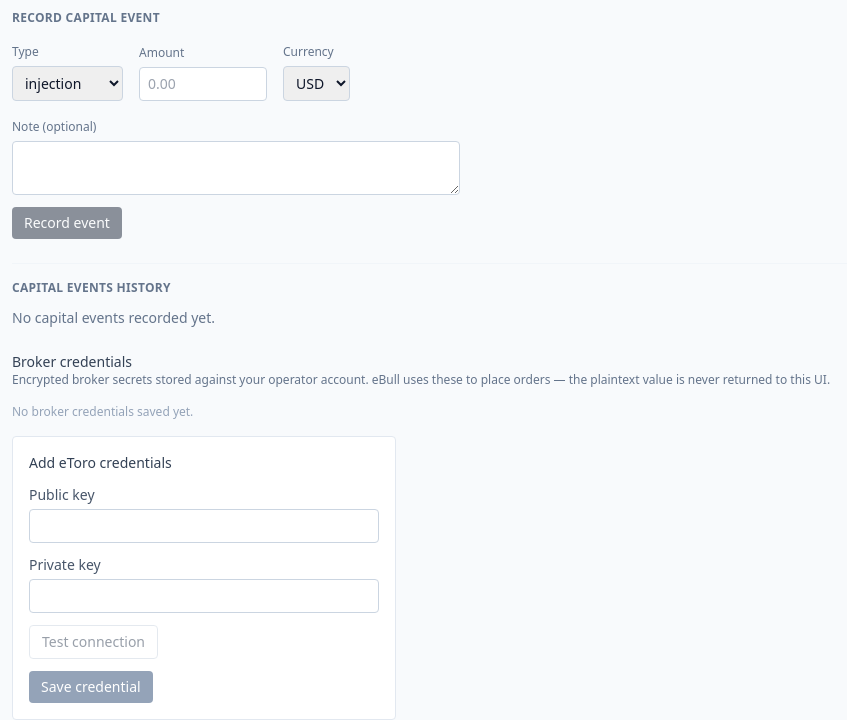
SettingsPage — test connection › shows auth failure without using note as error message
(page scrolled)
Expected: the text "No broker credentials saved yet." is shown, [12, 403, 193, 420]
Type "bad-api-key" into the password field labelled "Public key" at (204,526), box [29, 509, 379, 543]
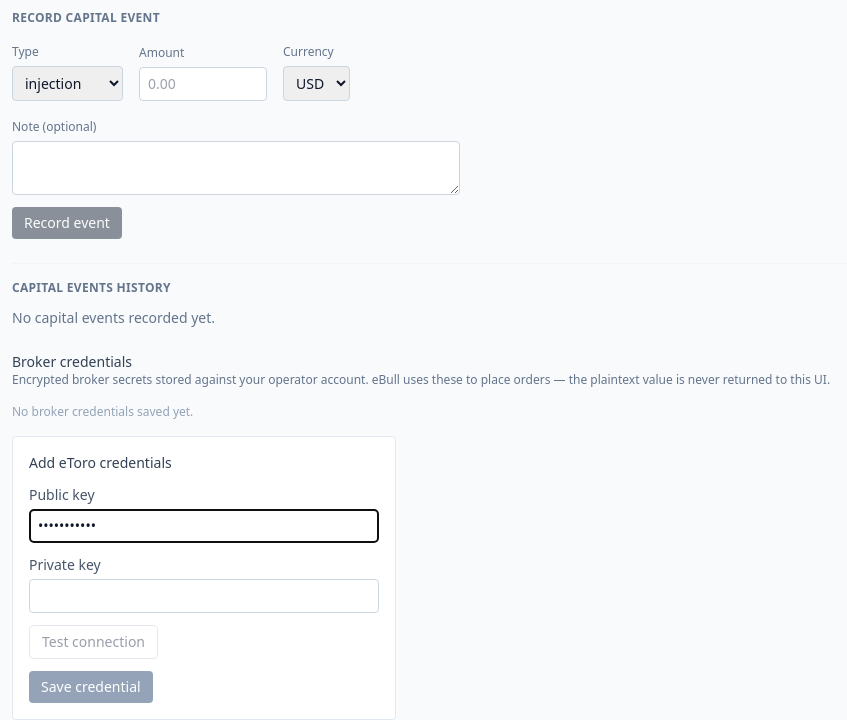
Type "bad-user-key" into the password field labelled "Private key" at (204,596), box [29, 579, 379, 613]
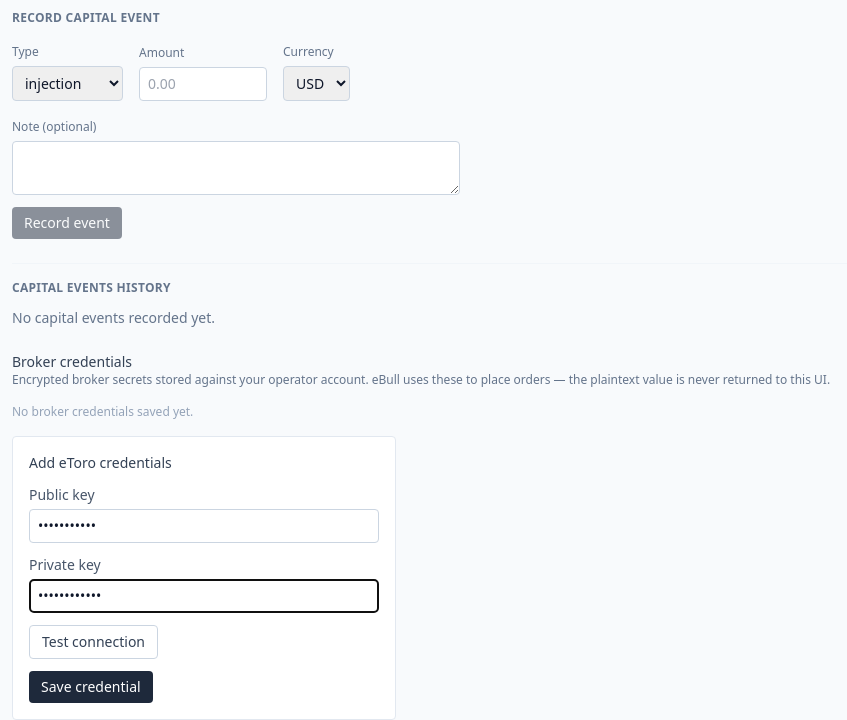
Click the button "Test connection" at (94,642), box [29, 625, 158, 659]
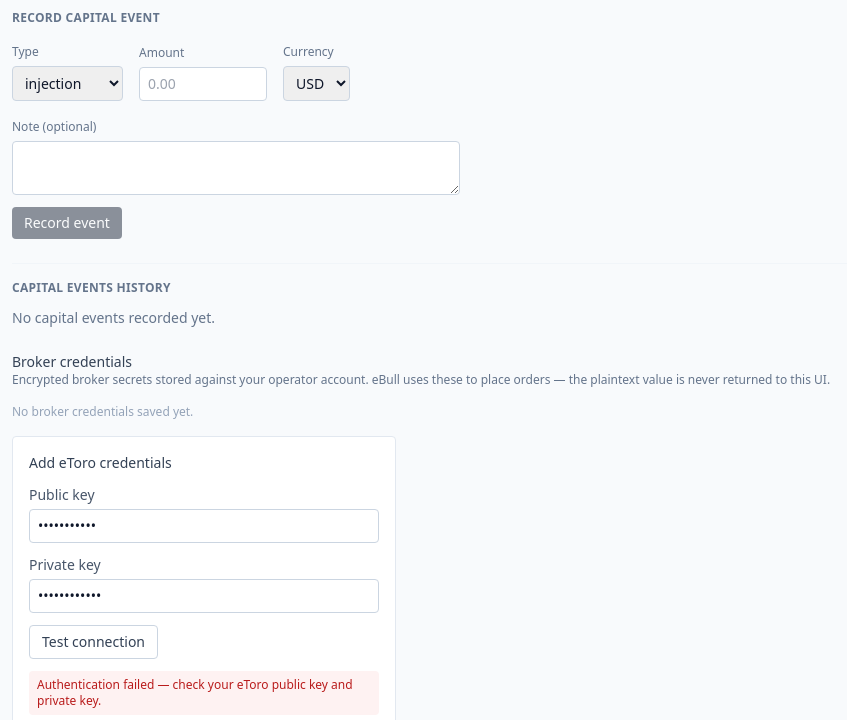
Result: the text "Authentication failed — check your eToro public key and private key." is shown at [29, 671, 379, 715]
